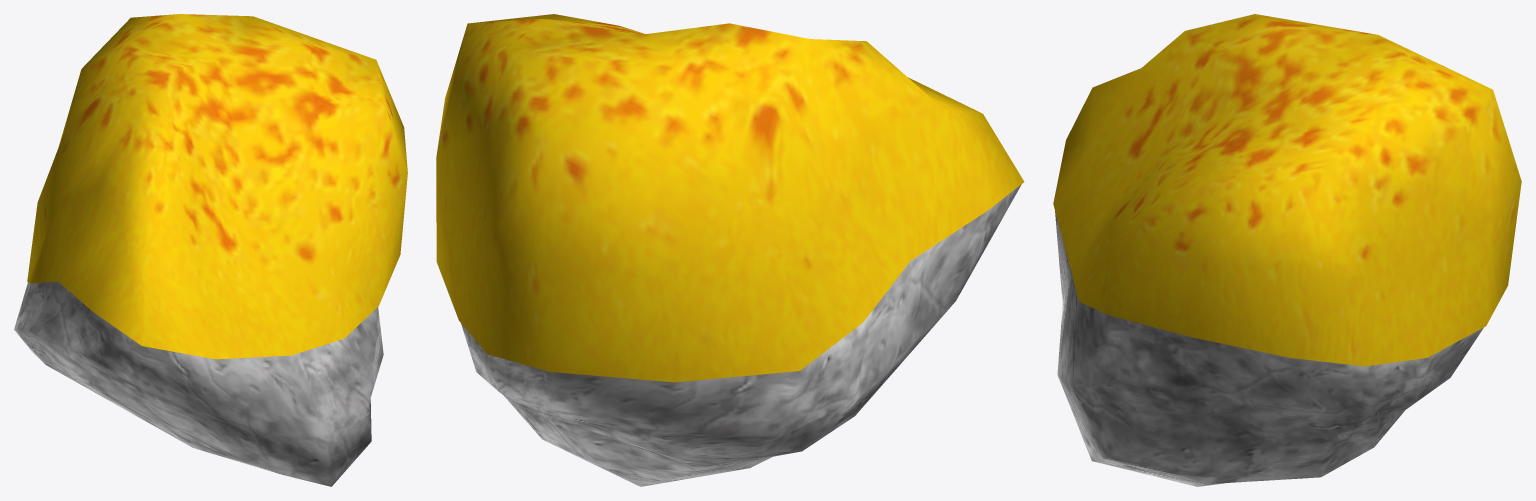
File: INST_SWORDLIGHT_ROCKGLOWA.fbx
3 views of the same model, side by side, from view 1: azimuth 30°, elevation 25°; view 2: azimuth 150°, elevation 25°; view 3: azimuth 270°, elevation 25° (orthographic). The views are drawn at different scales.
Visible parts, largest first — view 1: INST_SWORDLIGHT_ROCKGLOWA; view 2: INST_SWORDLIGHT_ROCKGLOWA; view 3: INST_SWORDLIGHT_ROCKGLOWA.
Part boxes in pixels (x1,y1,x2,y2): INST_SWORDLIGHT_ROCKGLOWA: (14, 14, 407, 486); INST_SWORDLIGHT_ROCKGLOWA: (436, 14, 1024, 486); INST_SWORDLIGHT_ROCKGLOWA: (1053, 14, 1521, 486).
Bounding box in the file's own units: 21147 × 21094 × 21147.
2 materials, 2 textured.
